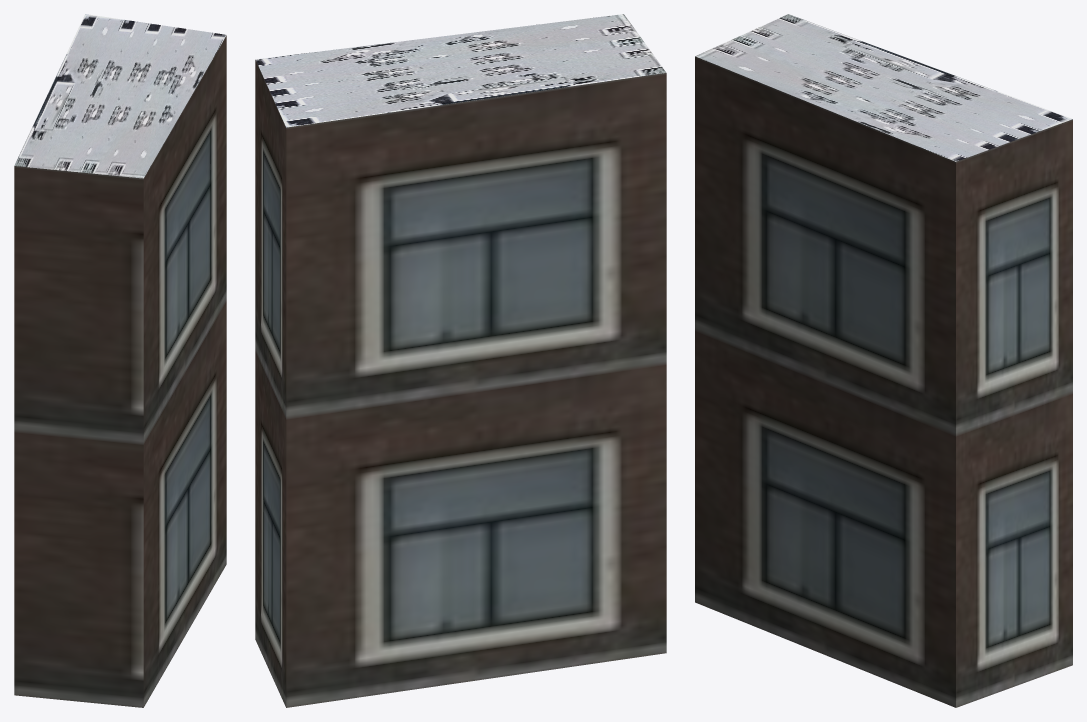
File: ResTex__1714.fbx
The picture shows the model from 3 angles, left to right: view 1: azimuth 30°, elevation 25°; view 2: azimuth 150°, elevation 25°; view 3: azimuth 270°, elevation 25°; orthographic projection. The views are drawn at different scales.
Visible parts, largest first — view 1: CityEngineMaterial_16_m, CityEngineMaterial_15_m; view 2: CityEngineMaterial_16_m, CityEngineMaterial_15_m; view 3: CityEngineMaterial_16_m, CityEngineMaterial_15_m.
Part boxes in pixels (x1=…): CityEngineMaterial_16_m: x1=14, y1=35, x2=226, y2=707; CityEngineMaterial_15_m: x1=14, y1=14, x2=226, y2=178; CityEngineMaterial_16_m: x1=255, y1=60, x2=666, y2=707; CityEngineMaterial_15_m: x1=255, y1=14, x2=666, y2=127; CityEngineMaterial_16_m: x1=695, y1=56, x2=1072, y2=707; CityEngineMaterial_15_m: x1=695, y1=14, x2=1072, y2=161.
Size of the model in its own units: 3.48 by 6 by 3.76.
Materials: 2 (2 with a texture image).
